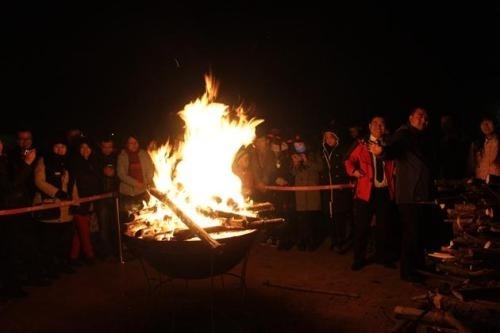fire: (135, 71, 264, 239)
